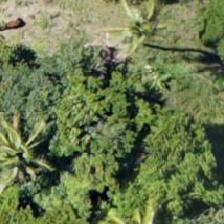coconut_tree: (95, 0, 185, 73), (0, 106, 65, 196)
